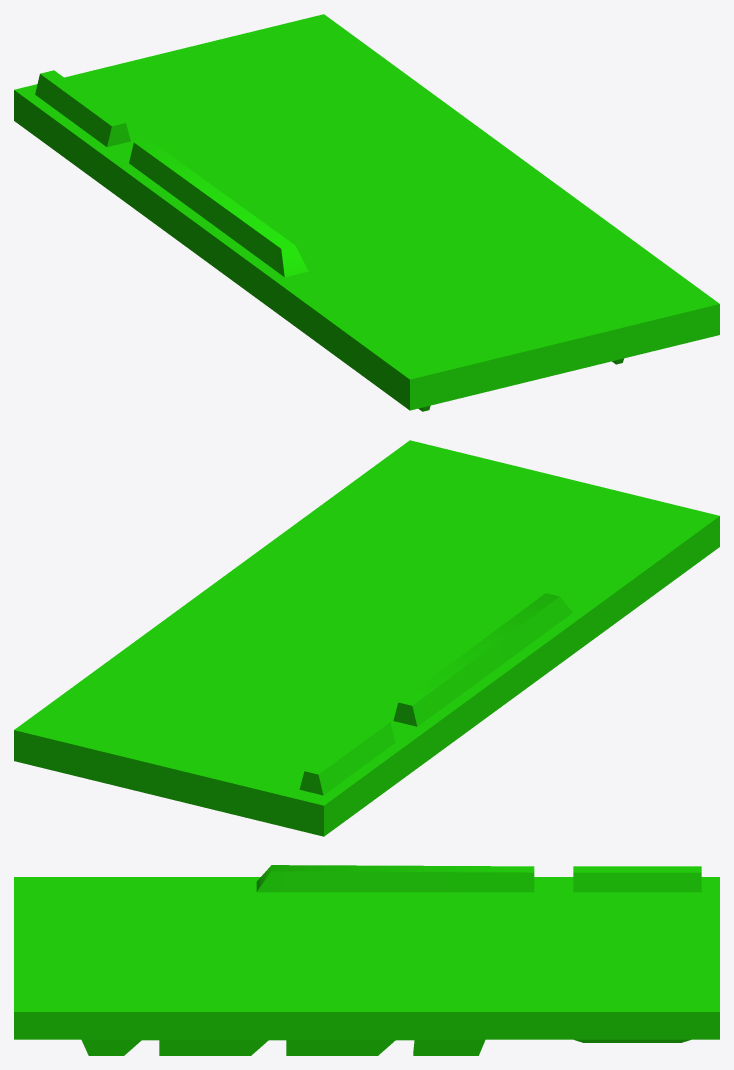
Rendered from SM_Door_Collider.fbx.
The picture shows the model from 3 angles, top to bottom: view 1: azimuth 30°, elevation 25°; view 2: azimuth 150°, elevation 25°; view 3: azimuth 270°, elevation 25°; orthographic projection. The views are drawn at different scales.
Visible parts, largest first — view 1: SM_Door_Collider; view 2: SM_Door_Collider; view 3: SM_Door_Collider.
Boxes of the visible parts, box(x1,y1,x2,y2) form: SM_Door_Collider: box(14, 14, 719, 411); SM_Door_Collider: box(14, 440, 719, 836); SM_Door_Collider: box(14, 865, 719, 1055).
Size of the model in its own units: 91.69 by 27.53 by 203.
